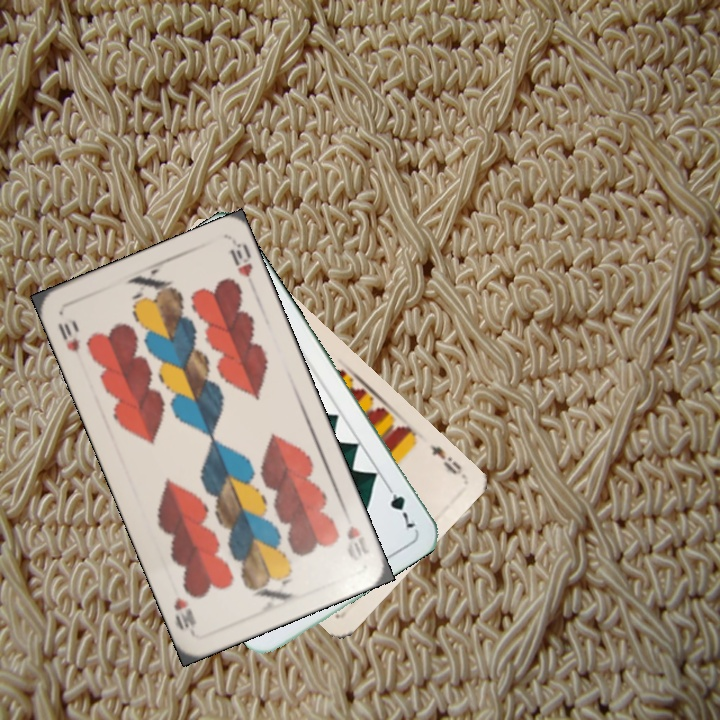E9: (425, 440, 467, 480)
G7: (380, 478, 418, 531)
H10: (343, 522, 373, 559), (53, 319, 83, 355)
